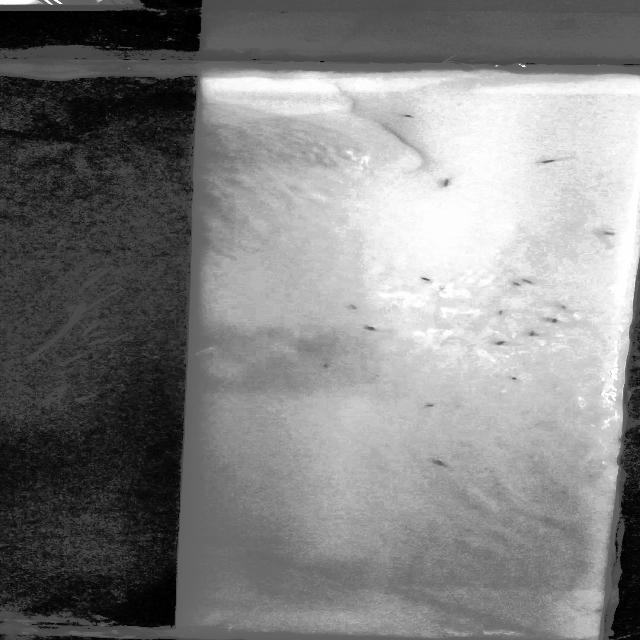shrimp: (424, 456, 460, 471), (532, 155, 574, 167), (493, 373, 529, 386), (348, 325, 387, 336), (434, 176, 467, 188), (481, 340, 519, 350), (309, 362, 343, 372), (415, 273, 432, 291), (414, 400, 438, 408), (522, 277, 538, 287), (546, 316, 561, 326), (525, 331, 543, 339), (511, 280, 525, 290), (493, 307, 509, 315)
